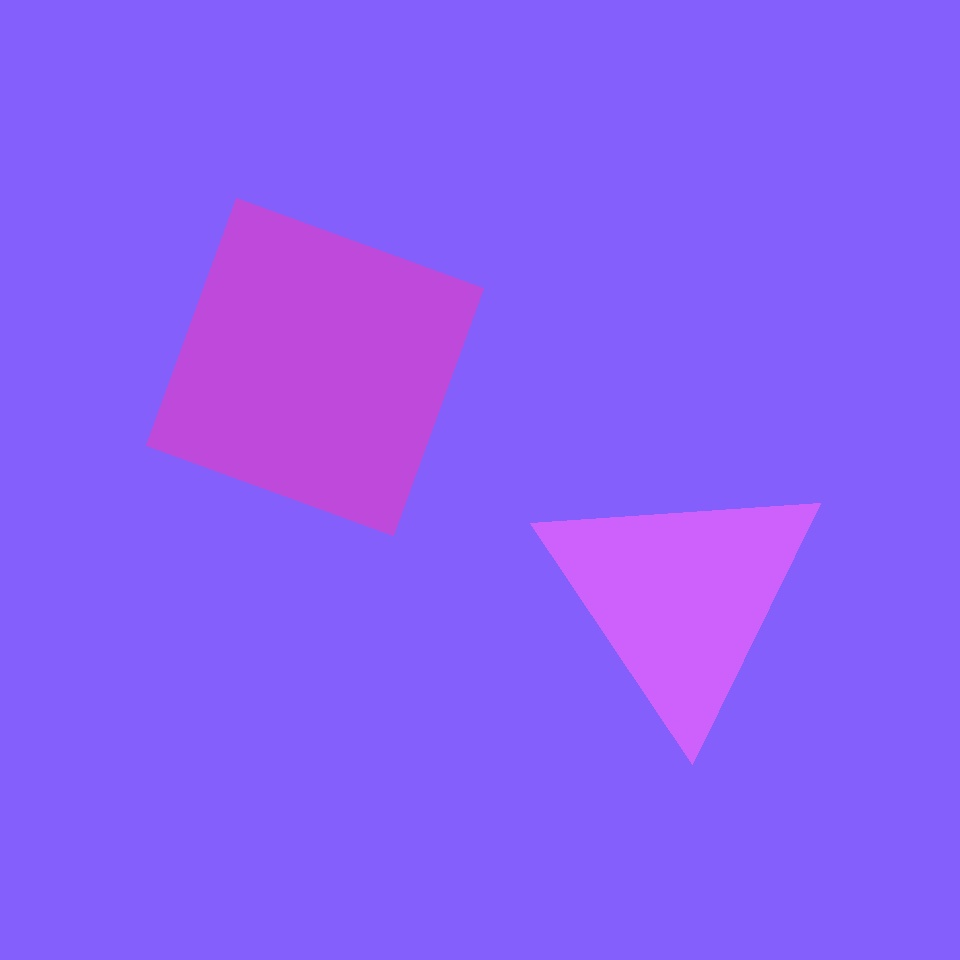circle: (551, 568, 812, 868), (536, 466, 826, 728), (164, 547, 431, 812), (285, 310, 494, 519)
square: (146, 198, 484, 535), (287, 558, 562, 832), (471, 556, 661, 746)
triangle: (427, 679, 683, 934)
